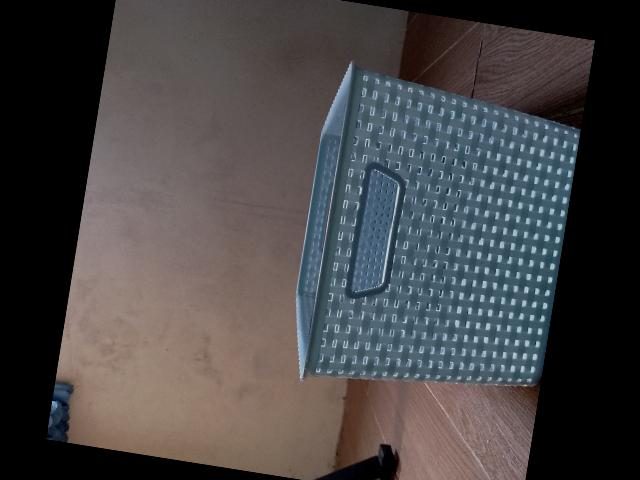cart: (296, 60, 581, 386)
